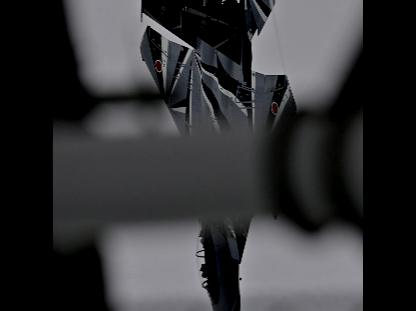F117: (139, 0, 298, 310)
